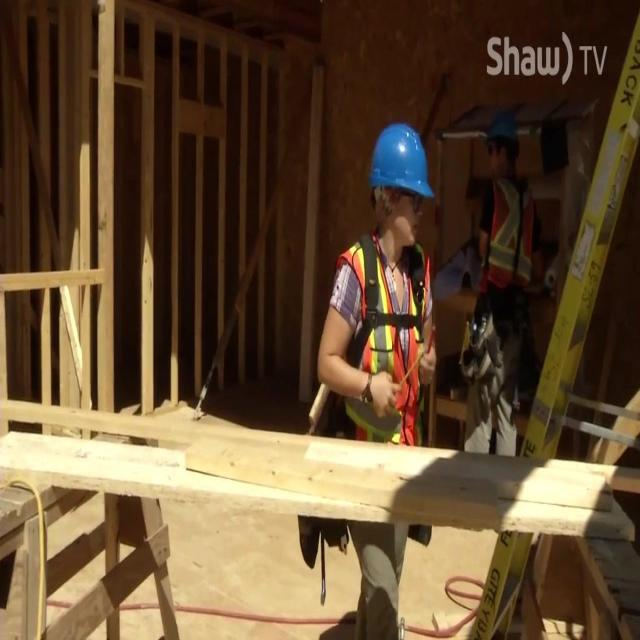Vest: (338, 236, 430, 446), (480, 174, 532, 299)
